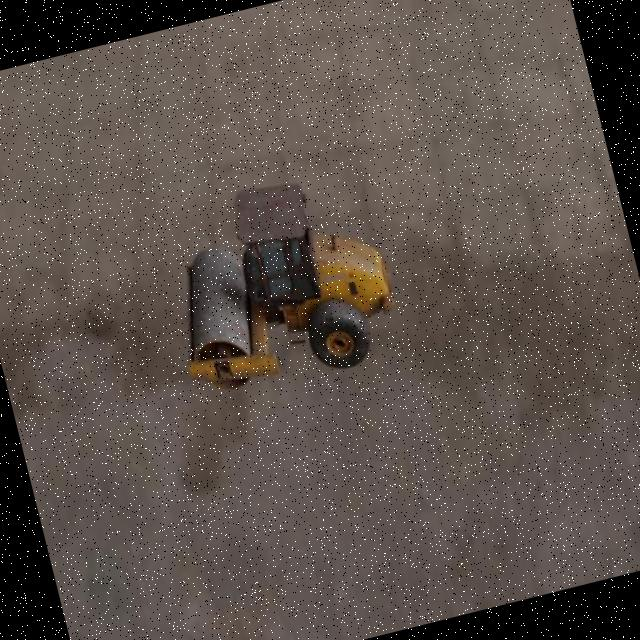Roller: (148, 158, 409, 406)
